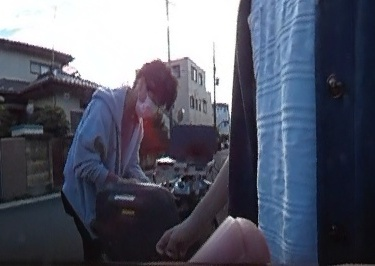person: (60, 61, 179, 266)
